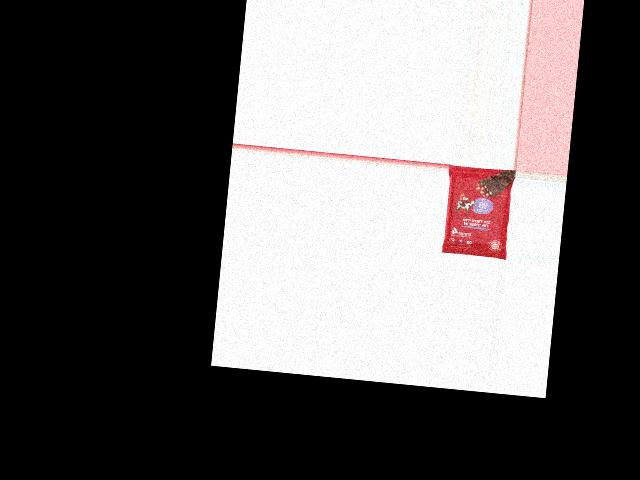chocolate: (440, 165, 513, 260)
